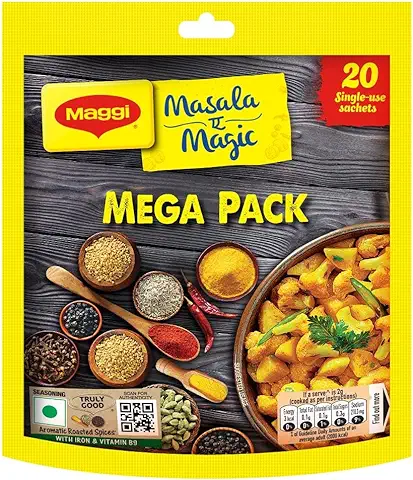briyani: (16, 48, 405, 480)
